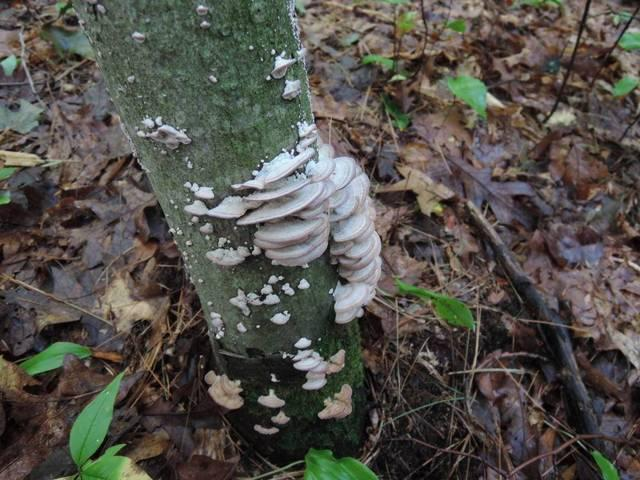poisonous_mushroom: (67, 0, 384, 460)
